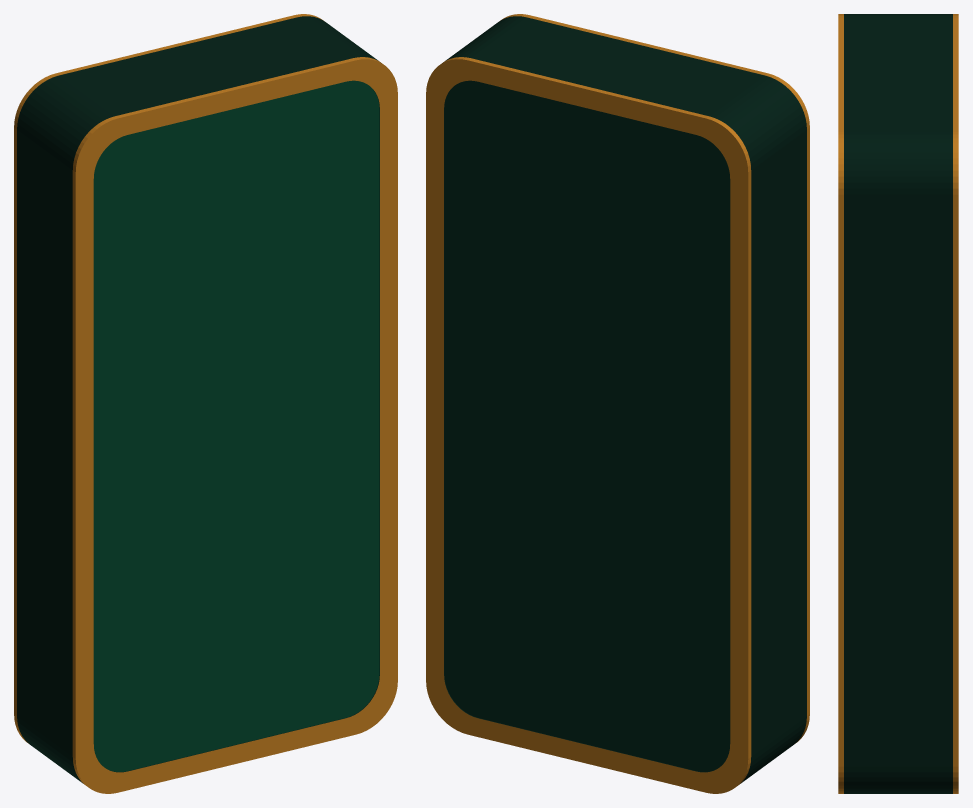
The model's file is Premium_Rounded_Domino.obj.
3 views of the same model, side by side, from view 1: azimuth 30°, elevation 25°; view 2: azimuth 150°, elevation 25°; view 3: azimuth 270°, elevation 25° (orthographic). The views are drawn at different scales.
Visible parts, largest first — view 1: Front_Emerald, Sides_Top_Bottom, Front_Gold_Border, Back_Gold_Border; view 2: Back_Emerald, Sides_Top_Bottom, Back_Gold_Border, Front_Gold_Border; view 3: Sides_Top_Bottom, Front_Gold_Border, Back_Gold_Border.
Boxes of the visible parts, left/top/right/bottom form: Front_Emerald: left=93, top=80, right=379, bottom=772; Sides_Top_Bottom: left=17, top=16, right=380, bottom=783; Front_Gold_Border: left=72, top=57, right=397, bottom=793; Back_Gold_Border: left=14, top=14, right=323, bottom=743; Back_Emerald: left=444, top=80, right=730, bottom=772; Sides_Top_Bottom: left=443, top=16, right=806, bottom=783; Back_Gold_Border: left=426, top=57, right=751, bottom=793; Front_Gold_Border: left=500, top=14, right=809, bottom=743; Sides_Top_Bottom: left=844, top=14, right=952, bottom=793; Front_Gold_Border: left=838, top=14, right=843, bottom=793; Back_Gold_Border: left=953, top=14, right=958, bottom=793.
Size of the model in its own units: 0.5 by 1 by 0.166.
